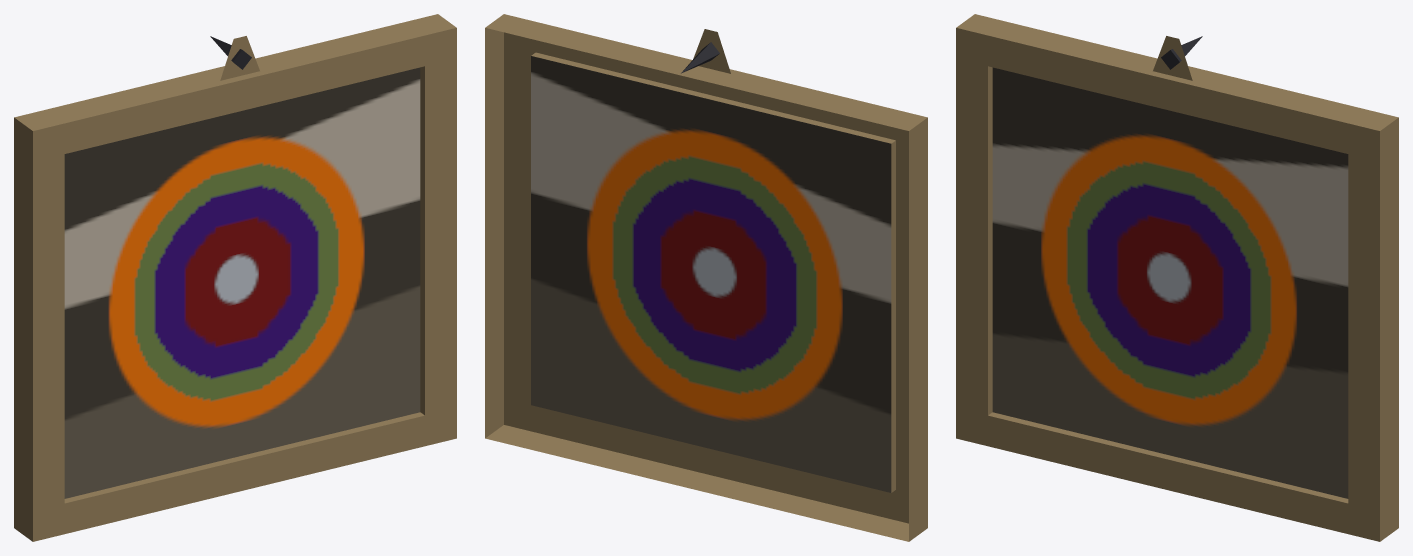
Rendered from Paint_3.fbx.
The picture shows the model from 3 angles, left to right: view 1: azimuth 30°, elevation 25°; view 2: azimuth 150°, elevation 25°; view 3: azimuth 330°, elevation 25°; orthographic projection.
Visible parts, largest first — view 1: polySurface1521; view 2: polySurface1521; view 3: polySurface1521.
Part boxes in pixels (box(x1,y1,x2,y2)): polySurface1521: box(14, 14, 456, 541); polySurface1521: box(485, 14, 927, 541); polySurface1521: box(956, 14, 1398, 541).
Size of the model in its own units: 78.06 by 79.1 by 11.26.
